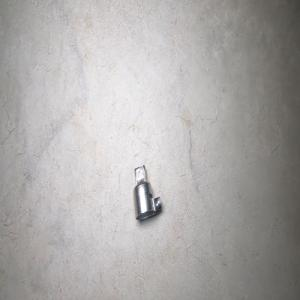MetalPart: (132, 163, 161, 220)
